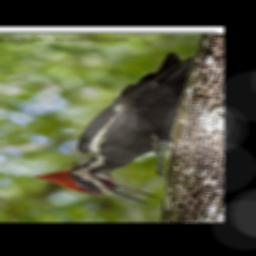Woodpecker: (32, 52, 194, 205)
